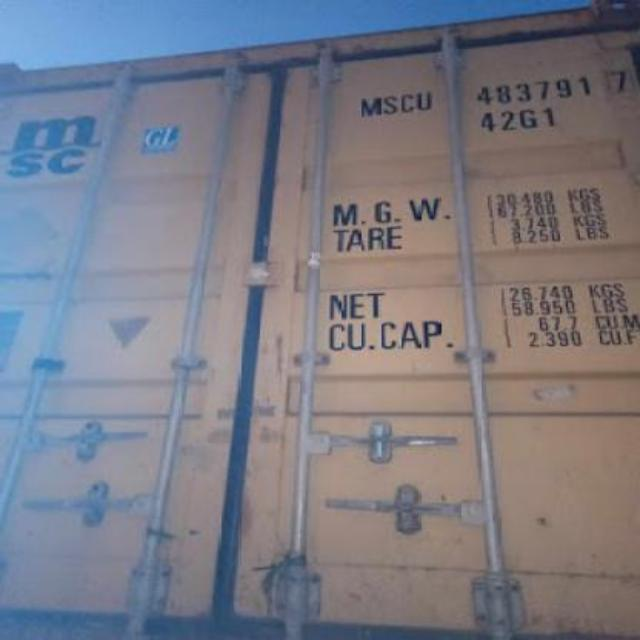1: (576, 74, 596, 96)
3: (514, 82, 534, 105)
4: (474, 84, 494, 106)
7: (608, 69, 632, 95), (532, 78, 552, 102)
8: (496, 84, 514, 106)
9: (554, 78, 574, 100)
C: (398, 94, 416, 115)
M: (358, 92, 384, 120)
S: (382, 94, 400, 116)
U: (414, 91, 438, 112)
